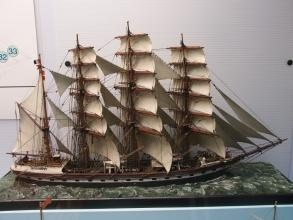fanchuan: (9, 26, 284, 187)
